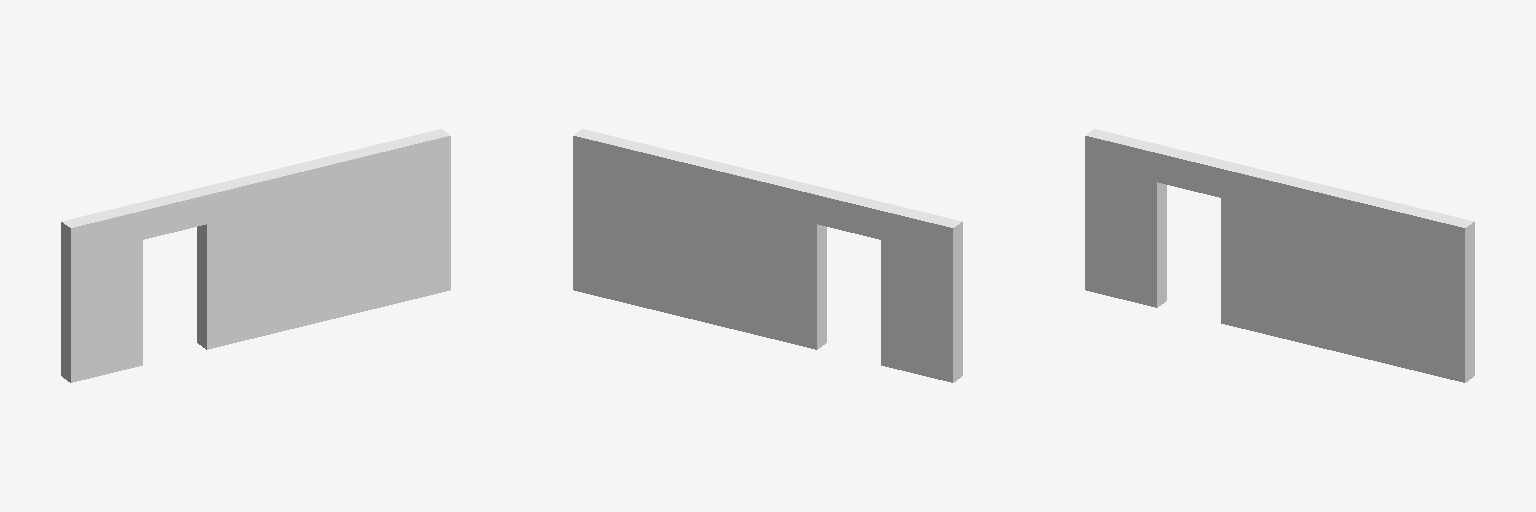
Rendered from apt:wall-back-main.obj.
The picture shows the model from 3 angles: view 1: azimuth 30°, elevation 25°; view 2: azimuth 150°, elevation 25°; view 3: azimuth 330°, elevation 25°; orthographic projection.
Parts seen in each view (by area): view 1: apt:wall-back-main; view 2: apt:wall-back-main; view 3: apt:wall-back-main.
Boxes of the visible parts, x1=… form: apt:wall-back-main: x1=61, y1=129, x2=450, y2=382; apt:wall-back-main: x1=573, y1=129, x2=962, y2=382; apt:wall-back-main: x1=1085, y1=129, x2=1474, y2=382.
Size of the model in its own units: 95 by 37 by 4.